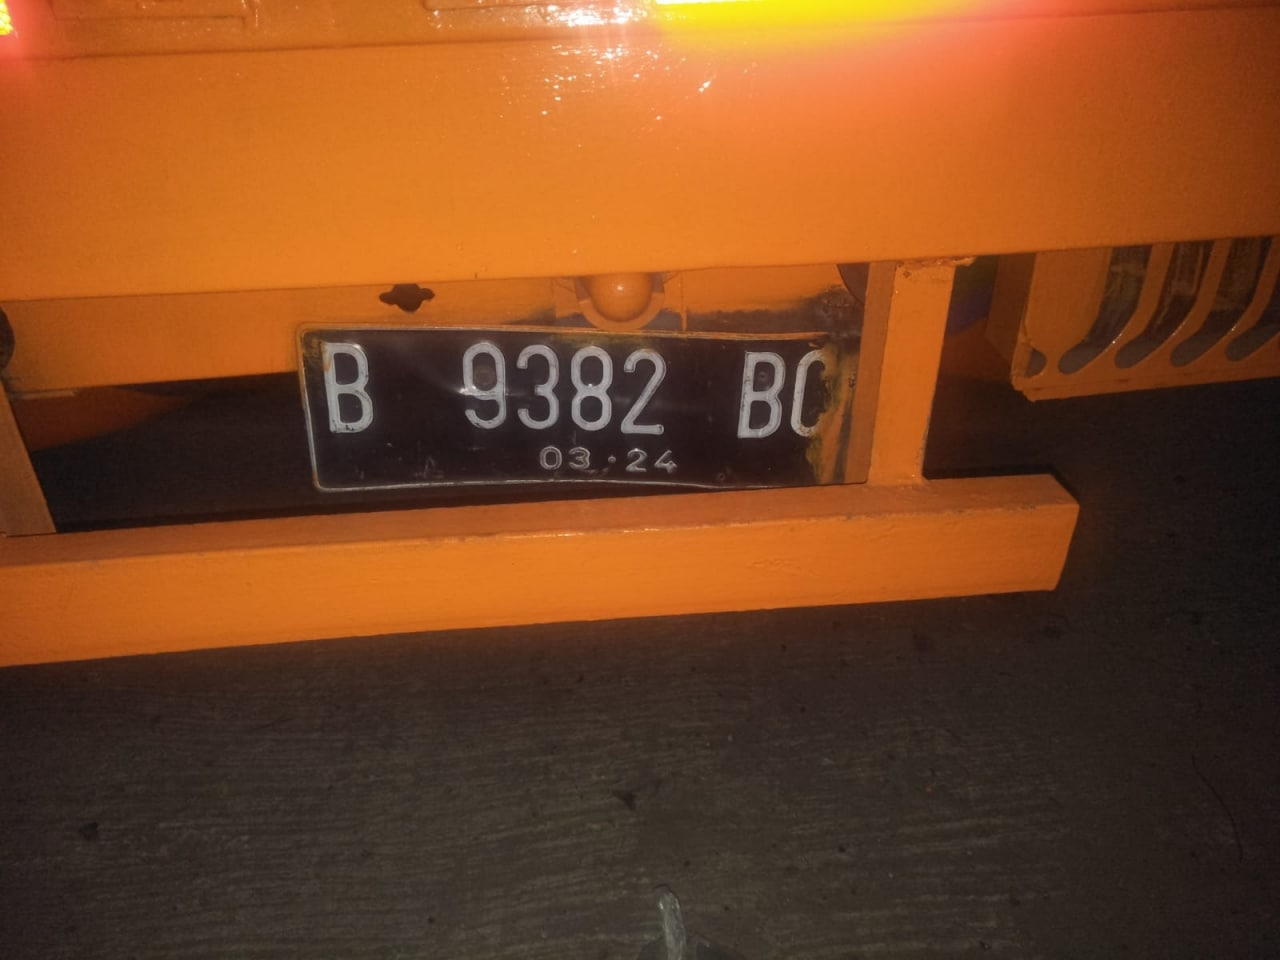plate: (305, 324, 859, 496)
